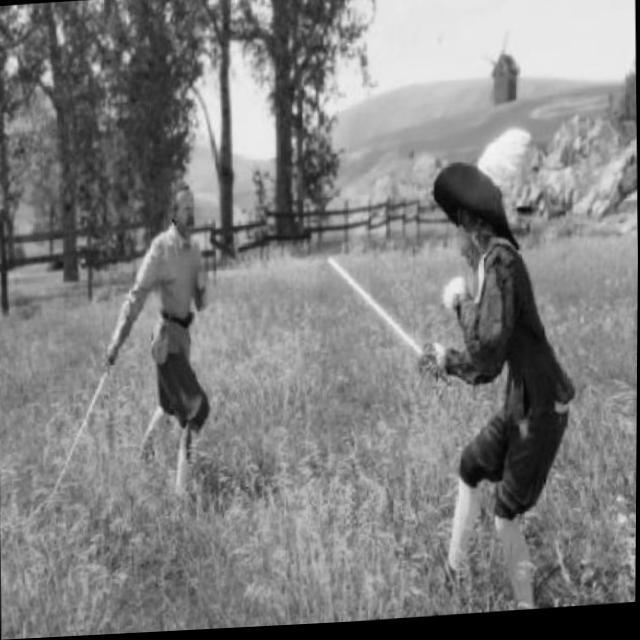weapon: (408, 158, 584, 622), (94, 180, 219, 508)
